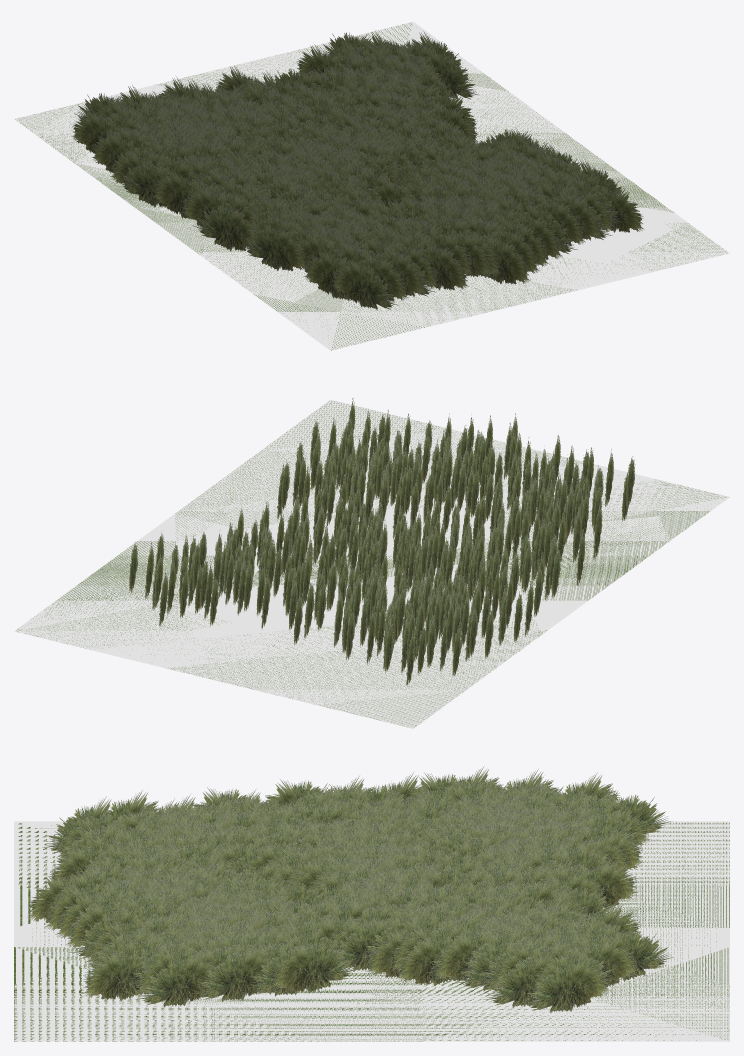
3 views of the same model, one above another, from view 1: azimuth 30°, elevation 25°; view 2: azimuth 150°, elevation 25°; view 3: azimuth 270°, elevation 25° (orthographic). The views are drawn at different scales.
Visible parts, largest first — view 1: grass1_1 (×38), SketchUp; view 2: SketchUp; view 3: grass1_1 (×99), SketchUp.
Part boxes in pixels (left/top/right/bottom): grass1_1 (×38): left=71, top=31, right=644, bottom=310; SketchUp: left=14, top=21, right=729, bottom=350; SketchUp: left=14, top=399, right=729, bottom=728; grass1_1 (×99): left=27, top=767, right=673, bottom=1013; SketchUp: left=14, top=821, right=729, bottom=1041.
Bounding box in the file's own units: 286 × 389 × 37.
3 materials, 2 textured.
